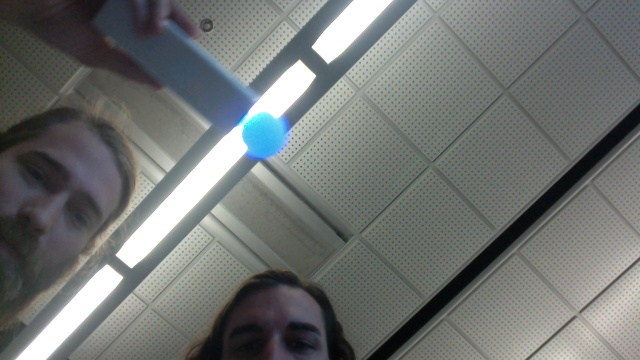wand: (241, 112, 287, 160)
